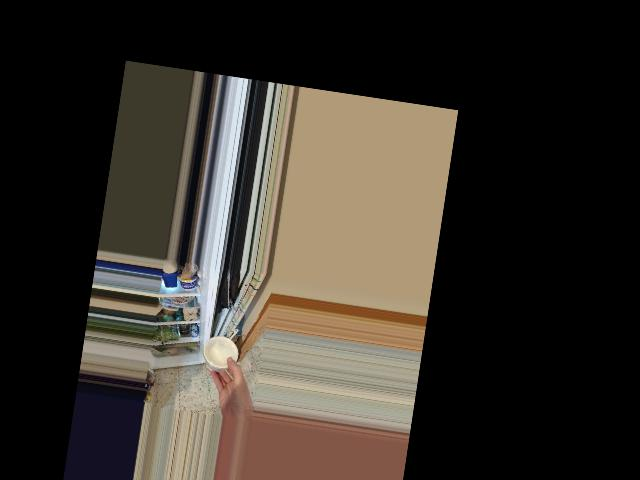cotage: (201, 332, 236, 375)
